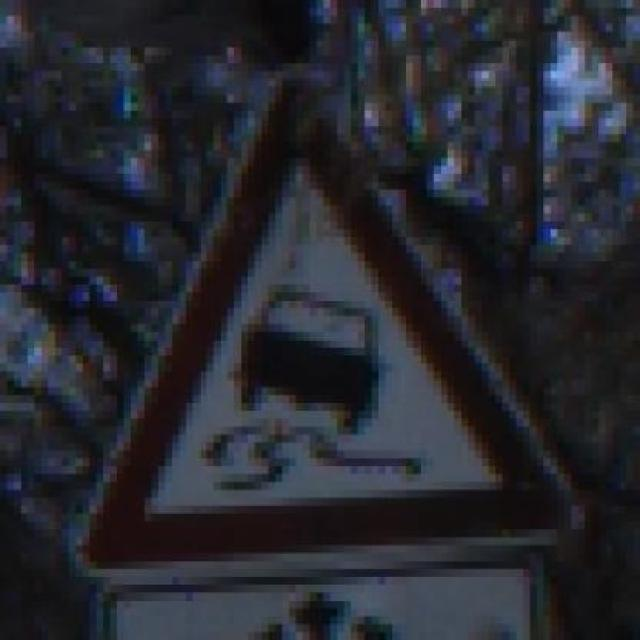Slippery Road Ahead: (62, 71, 592, 577)
